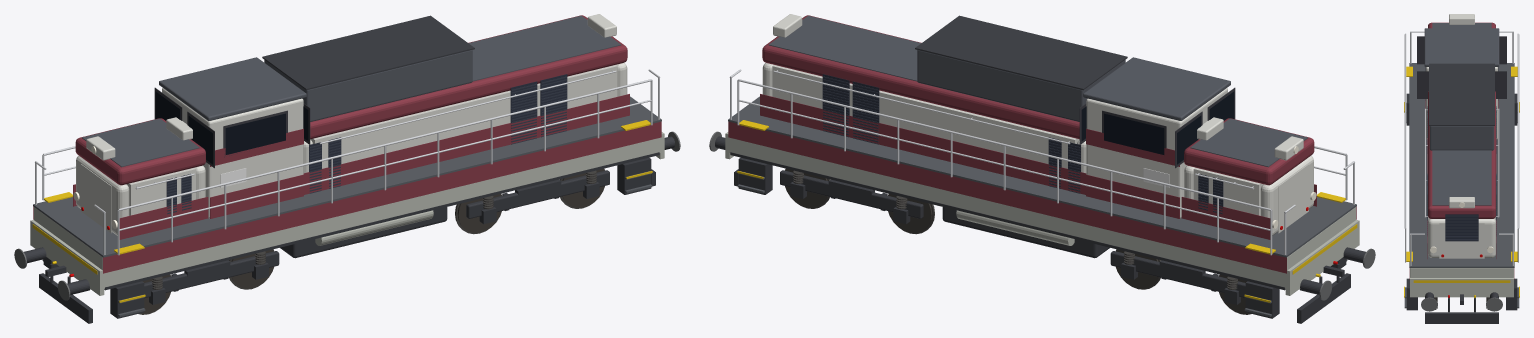
File: SM42PR_przed_szyby.glb
3 views of the same model, side by side, from view 1: azimuth 30°, elevation 25°; view 2: azimuth 150°, elevation 25°; view 3: azimuth 270°, elevation 25° (orthographic). The views are drawn at different scales.
Visible parts, largest first — view 1: SM42_pomost, SM42_ostoja, SM42_ostoja_bordo_-1, SM42_skrzynia_maski_pokrywa, SM42_maska_dluga, SM42_pas_dluga_-1, SM42_okap_dluga, SM42_skrzynia_maski, SM42_kabina_dach, SM42_maska_dach_dluga, SM42_kabina, SM42_porecze_-1 (+29 smaller); view 2: SM42_pomost, SM42_ostoja, SM42_ostoja_bordo_1, SM42_skrzynia_maski_pokrywa, SM42_maska_dluga, SM42_pas_dluga_1, SM42_okap_dluga, SM42_skrzynia_maski, SM42_kabina_dach, SM42_maska_dach_dluga, SM42_kabina, SM42_porecze_1 (+29 smaller); view 3: SM42_pomost, SM42_skrzynia_maski_pokrywa, SM42_maska_dach_dluga, SM42_kabina_dach, SM42_czolownica_1, SM42_skrzynia_maski, SM42_okap_dluga, SM42_czolo_dluga_1, SM42_ostoja, SM42_krata_czola_1, SM42_naroze_dluga_1, SM42_zgarniacz_1 (+21 smaller).
Boxes of the visible parts, <box> form: SM42_pomost: <box>33,96,661,257</box>; SM42_ostoja: <box>34,137,660,288</box>; SM42_ostoja_bordo_-1: <box>103,121,661,273</box>; SM42_skrzynia_maski_pokrywa: <box>262,15,474,90</box>; SM42_maska_dluga: <box>310,65,617,168</box>; SM42_pas_dluga_-1: <box>303,94,629,194</box>; SM42_okap_dluga: <box>310,15,627,139</box>; SM42_skrzynia_maski: <box>264,50,472,121</box>; SM42_kabina_dach: <box>159,57,306,120</box>; SM42_maska_dach_dluga: <box>468,15,620,81</box>; SM42_kabina: <box>162,88,303,218</box>; SM42_porecze_-1: <box>117,79,652,255</box>; SM42_pomost: <box>728,96,1356,257</box>; SM42_ostoja: <box>729,138,1355,288</box>; SM42_ostoja_bordo_1: <box>728,121,1286,273</box>; SM42_skrzynia_maski_pokrywa: <box>915,15,1127,90</box>; SM42_maska_dluga: <box>772,65,1079,168</box>; SM42_pas_dluga_1: <box>760,94,1086,194</box>; SM42_okap_dluga: <box>762,15,1079,139</box>; SM42_skrzynia_maski: <box>917,50,1125,121</box>; SM42_kabina_dach: <box>1083,57,1230,120</box>; SM42_maska_dach_dluga: <box>769,15,921,81</box>; SM42_kabina: <box>1086,88,1227,218</box>; SM42_porecze_1: <box>737,79,1272,255</box>; SM42_pomost: <box>1409,63,1514,267</box>; SM42_skrzynia_maski_pokrywa: <box>1429,63,1494,125</box>; SM42_maska_dach_dluga: <box>1432,150,1491,205</box>; SM42_kabina_dach: <box>1424,28,1499,66</box>; SM42_czolownica_1: <box>1410,278,1513,297</box>; SM42_skrzynia_maski: <box>1429,126,1494,150</box>; SM42_okap_dluga: <box>1428,91,1495,218</box>; SM42_czolo_dluga_1: <box>1439,223,1484,258</box>; SM42_ostoja: <box>1410,268,1513,277</box>; SM42_krata_czola_1: <box>1445,214,1478,241</box>; SM42_naroze_dluga_1: <box>1428,218,1495,257</box>; SM42_zgarniacz_1: <box>1425,312,1498,323</box>.
Size of the model in its own units: 14.23 by 4.23 by 3.12.
